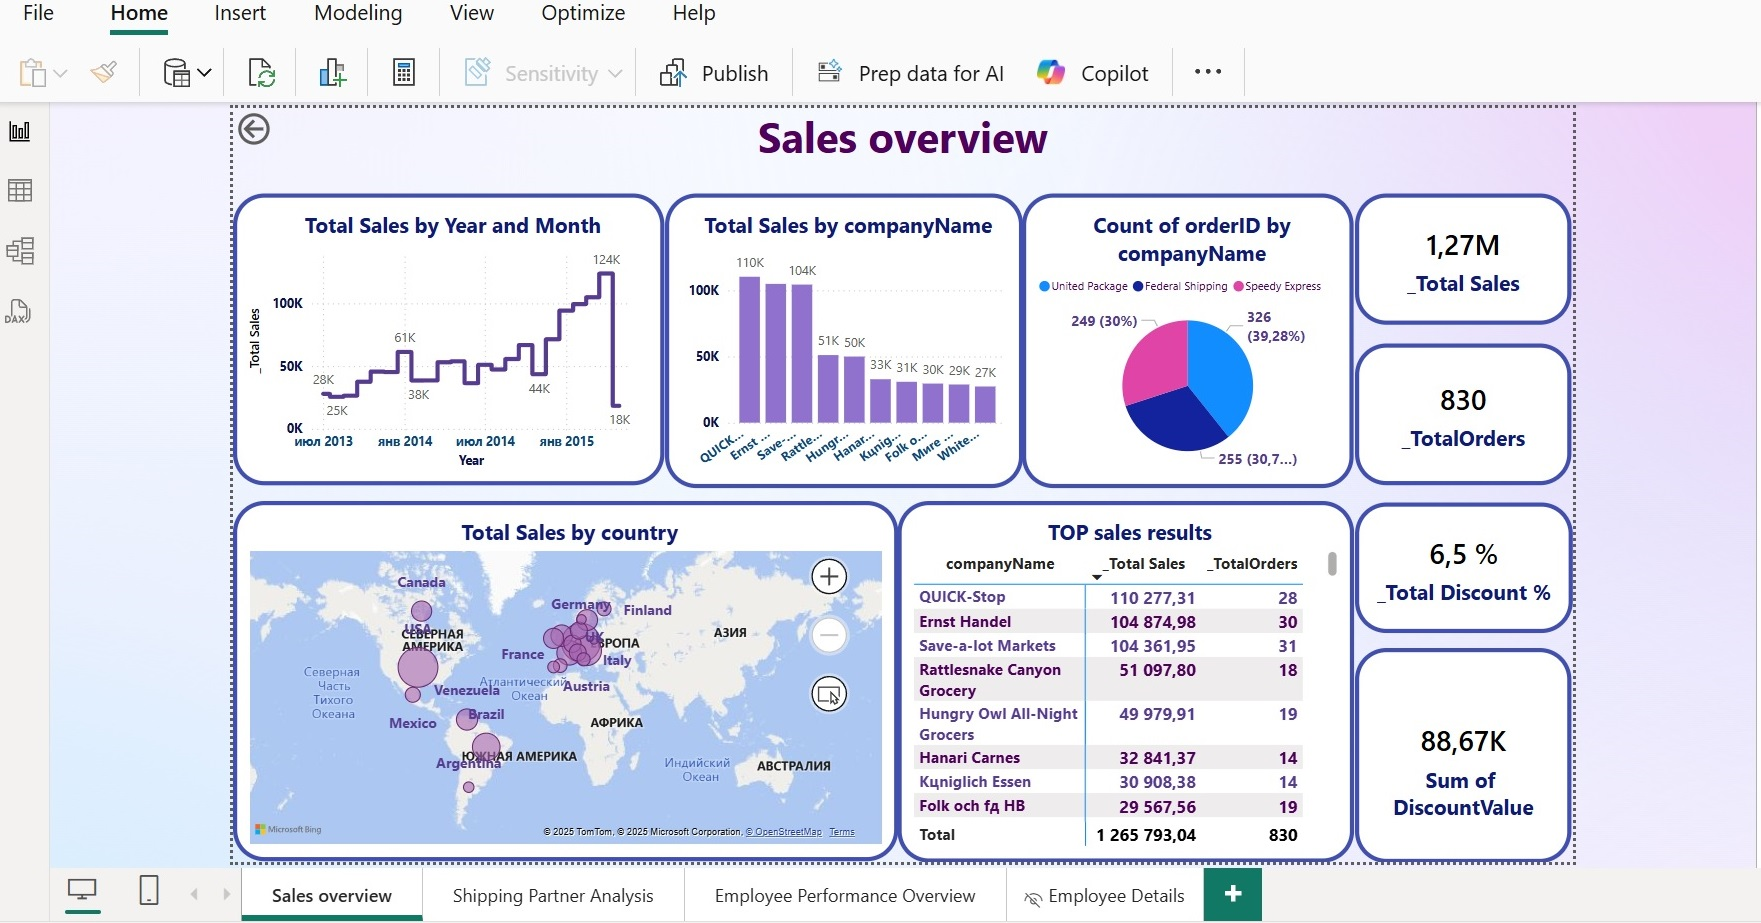

The page's visual inventory and layout, read from the dashboard file:
{"tool":"powerbi","page":{"name":"Salws overview","canvas":[1280,720],"ordinal":0},"visuals":[{"type":"lineChart","title":"Total Sales by Year and Month","fields":{"Y":["_measures._Total Sales"],"Category":["DimDate.Date.Variation.Date Hierarchy.Year","DimDate.Date.Variation.Date Hierarchy.Month"]},"box":[0,81.1,412,278.4],"z":0},{"type":"card","fields":{"Values":["_measures._Total Sales"]},"box":[1072.1,81.1,206.8,125.7],"z":1000},{"type":"card","fields":{"Values":["_measures._TotalOrders"]},"box":[1072.1,224.3,206.8,135.2],"z":2000},{"type":"card","fields":{"Values":["_measures._Total Discount %"]},"box":[1071.5,376.1,207.9,124.7],"z":3000},{"type":"clusteredColumnChart","title":"Total Sales by companyName","fields":{"Category":["customers.companyName"],"Y":["_measures._Total Sales"]},"box":[412,81.1,342,281.5],"z":4000},{"type":"pivotTable","title":"TOP sales results","fields":{"Rows":["customers.companyName"],"Values":["_measures._Total Sales","_measures._TotalOrders"]},"box":[634.7,375.4,435.8,345.2],"z":5000},{"type":"actionButton","box":[0,0,100,40],"z":6000},{"type":"textbox","title":"Sales overview","box":[0,0,1279.4,58.6],"z":7000},{"type":"map","title":"Total Sales by country","fields":{"Category":["customers.country"],"Size":["_measures._Total Sales"]},"box":[0,376,635,344],"z":8000},{"type":"card","fields":{"Values":["Sum(order_details.DiscountValue)"]},"box":[1072.1,515.4,206.8,205.2],"z":9000},{"type":"pieChart","fields":{"Category":["shippers.companyName"],"Y":["CountNonNull(orders.orderID)"]},"box":[753.9,81.1,316.5,281.5],"z":10000}]}

Visuals, with their boxes on the page's 1280x720 design canvas (x1, y1, x2, y2). These are canvas units, not pixel positions in the 1761x923 screenshot, which may show the page scaled, cropped or inside an application window:
"Total Sales by Year and Month" lineChart: 0/81/412/360
card - _measures._Total Sales: 1072/81/1279/207
card - _measures._TotalOrders: 1072/224/1279/360
card - _measures._Total Discount %: 1072/376/1279/501
"Total Sales by companyName" clusteredColumnChart: 412/81/754/363
"TOP sales results" pivotTable: 635/375/1070/721
actionButton: 0/0/100/40
"Sales overview" textbox: 0/0/1279/59
"Total Sales by country" map: 0/376/635/720
card - Sum(order_details.DiscountValue): 1072/515/1279/721
pieChart - shippers.companyName x CountNonNull(orders.orderID): 754/81/1070/363
